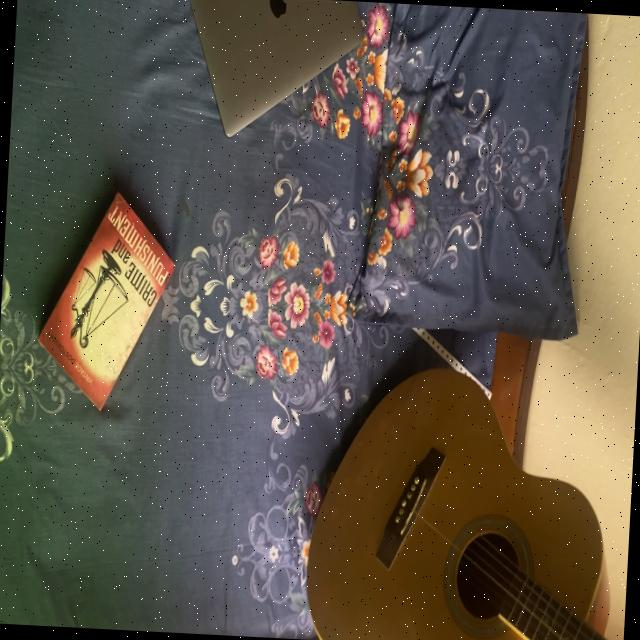book: (24, 168, 197, 442)
guitar: (293, 351, 628, 640)
laptop: (166, 0, 366, 154)
